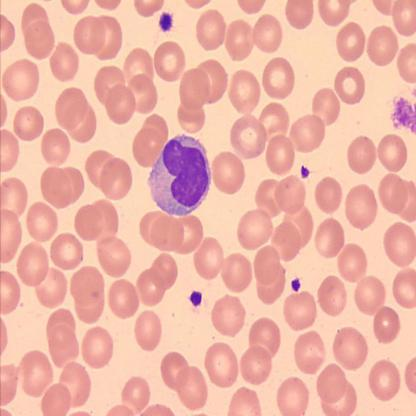Atypical lymphocyte: (149, 134, 210, 217)
